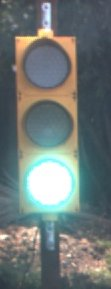Green: (6, 21, 85, 230)
